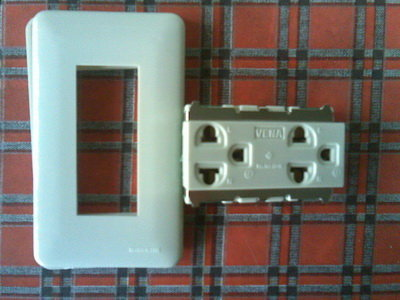Three_eye_plug: (179, 101, 352, 214)
